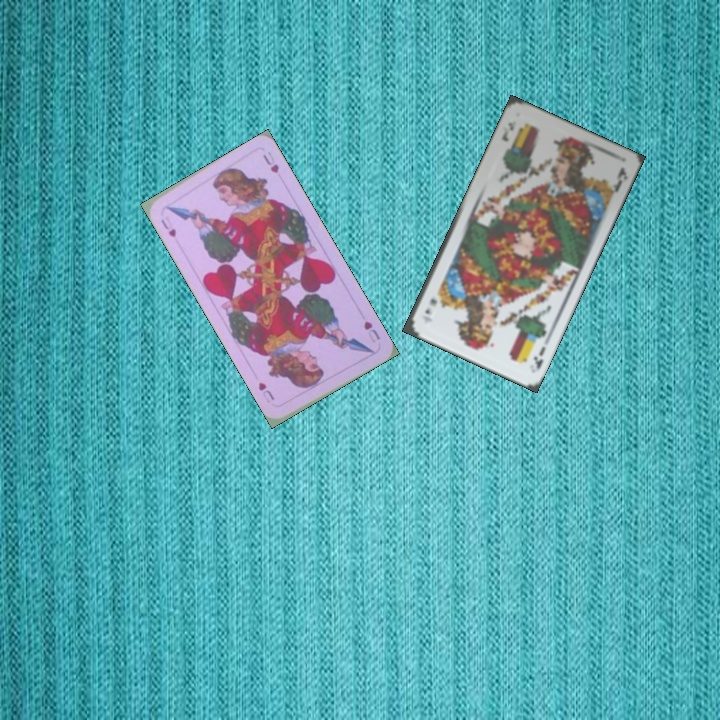EK: (529, 342, 548, 375), (498, 117, 518, 144)
HU: (360, 317, 383, 345), (157, 215, 179, 240)
